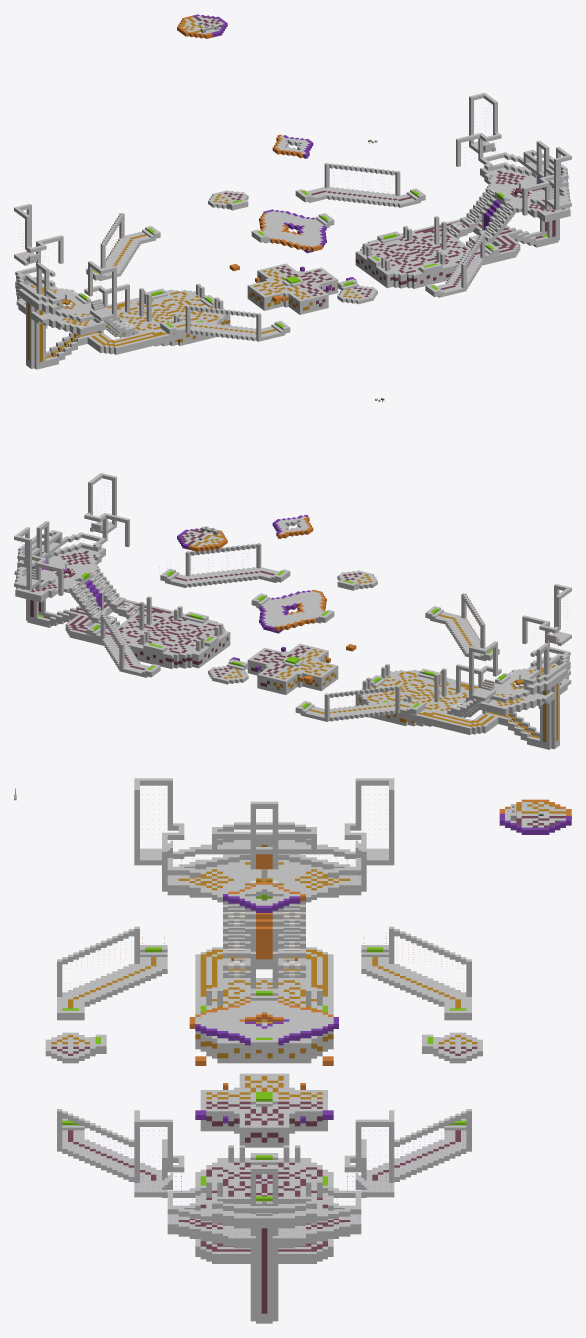
Rendered from minecraft.obj.
3 views of the same model, one above another, from view 1: azimuth 30°, elevation 25°; view 2: azimuth 150°, elevation 25°; view 3: azimuth 270°, elevation 25° (orthographic). The views are drawn at different scales.
Size of the model in its own units: 165 by 67.08 by 101.
